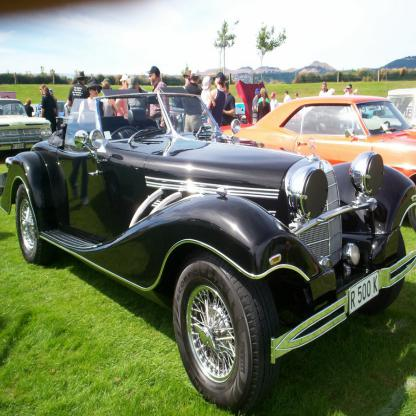Car: (0, 80, 415, 415), (222, 92, 415, 232), (0, 98, 52, 151)
